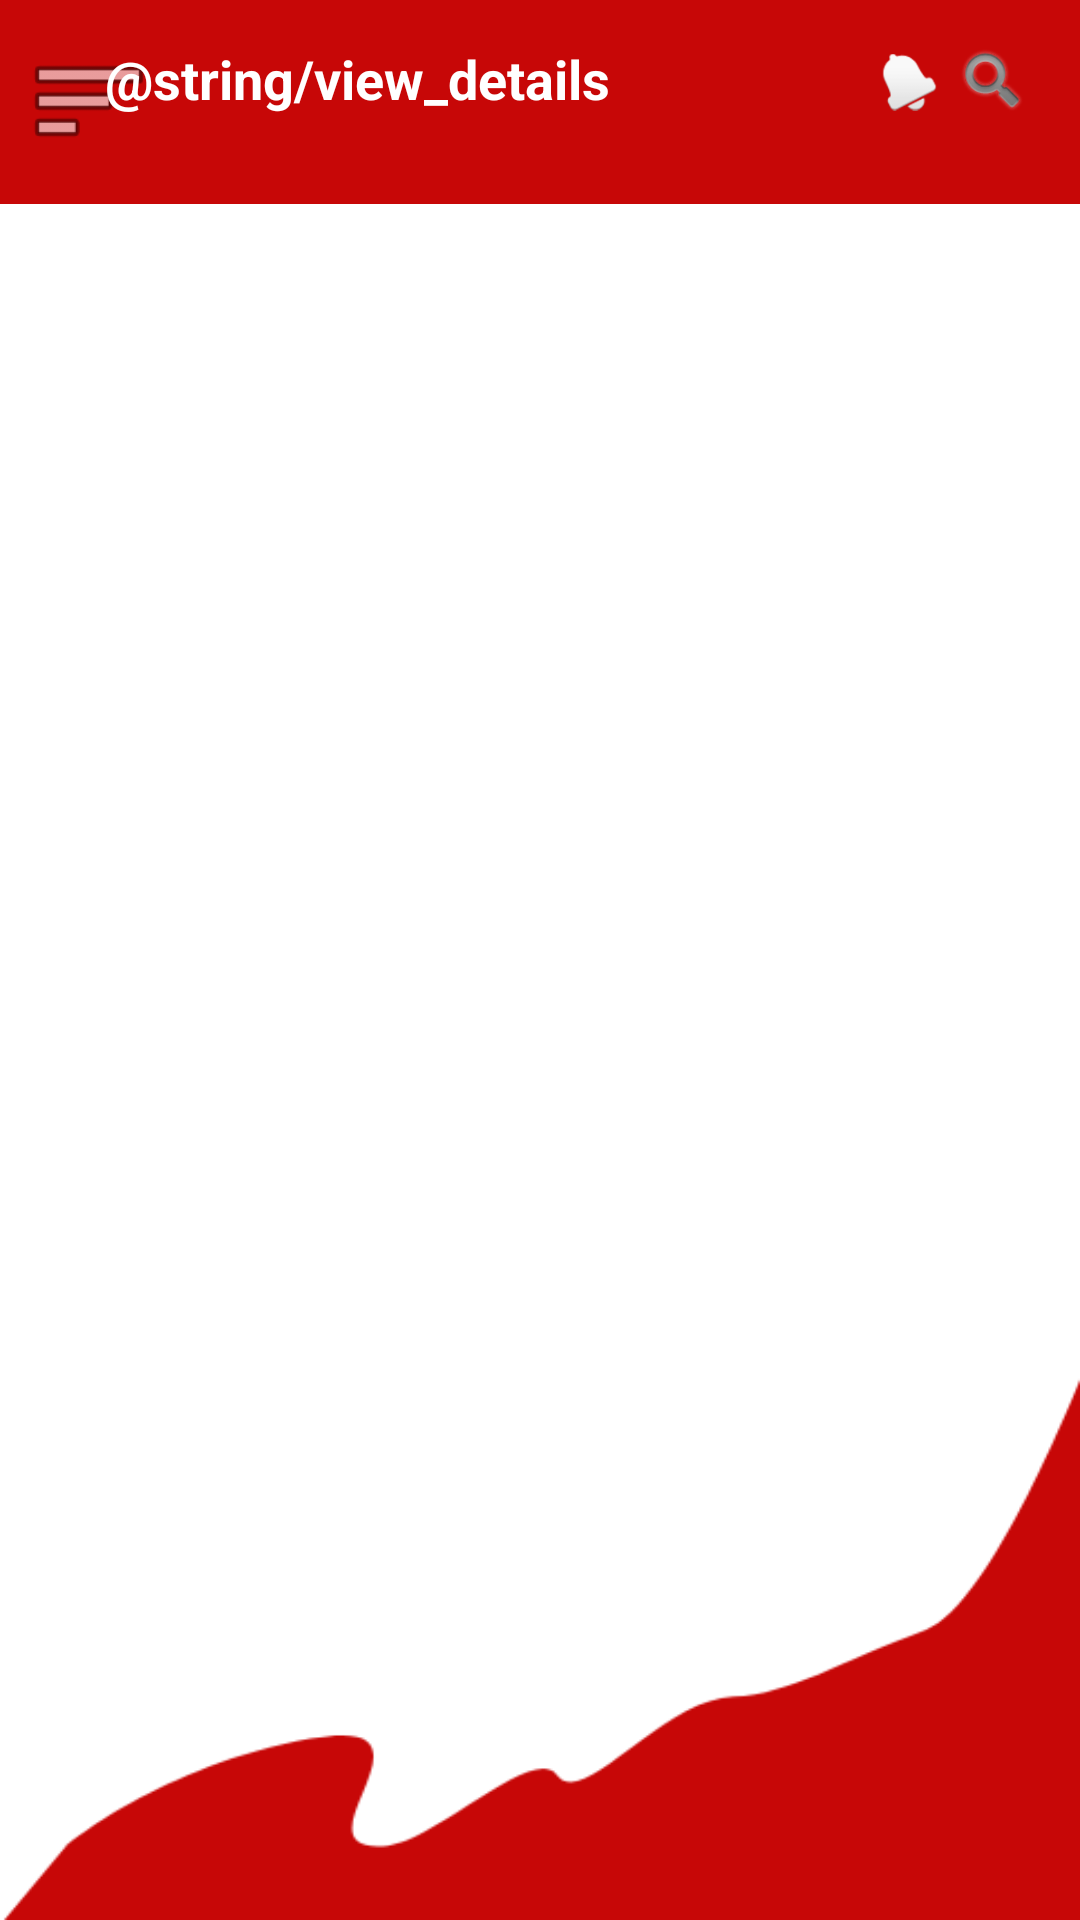

Screen size 1080x1920. Icon name, then its box in pixels as (x1, y1, x2, y2):
popup reminder: (883, 54, 936, 111)
search category: (963, 51, 1021, 109)
